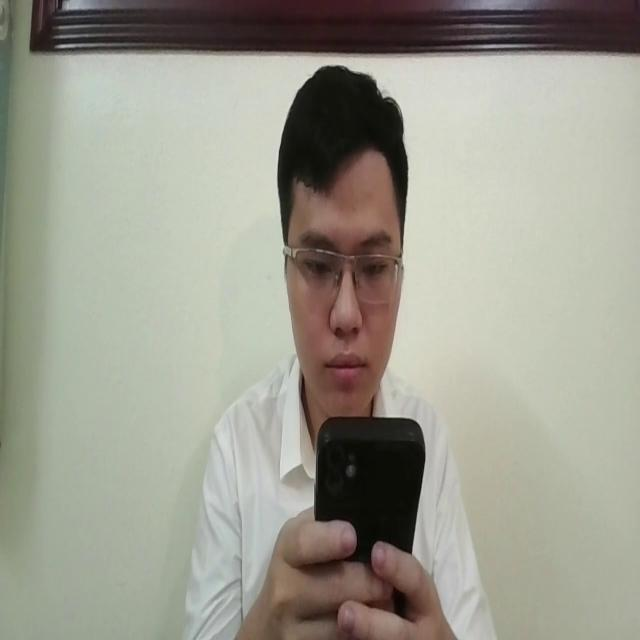phone: (314, 411, 426, 589)
student: (189, 55, 497, 640)
